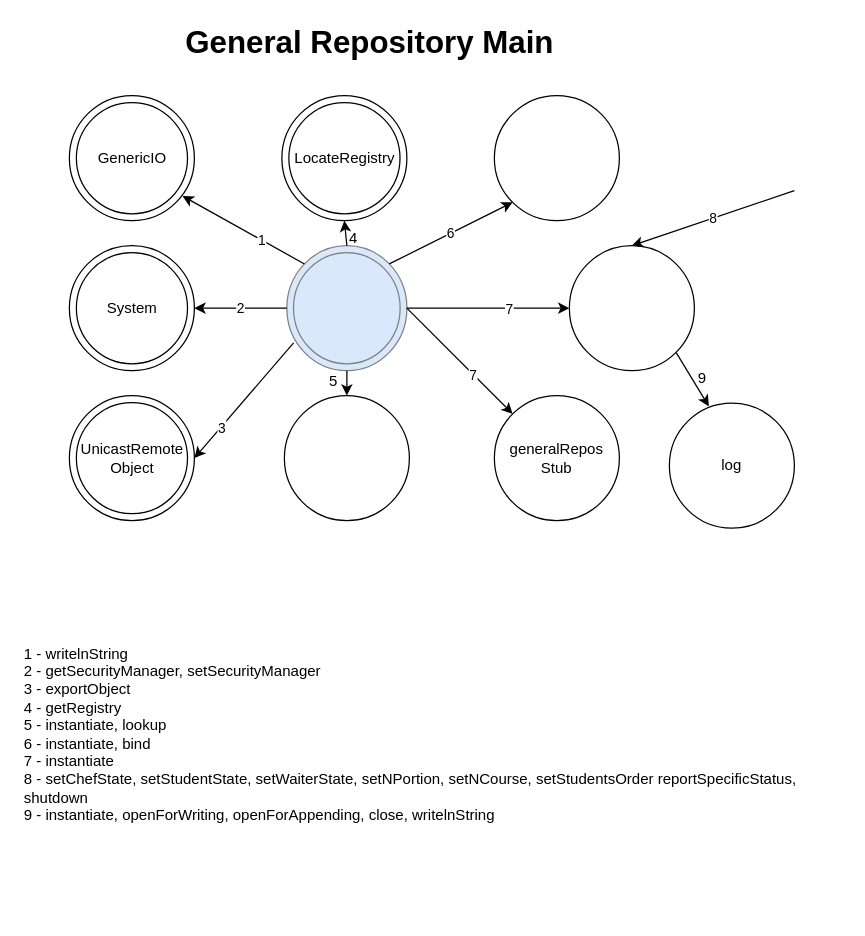
Some shapes in this 865 by 936 pixel diagram are drawn without their labels. Each missing label, with the centre of its shape:
"GeneralRepos Main" goes at (346,307).
"reg" goes at (556,157).
"registry" goes at (346,457).
"repos" goes at (631,307).
